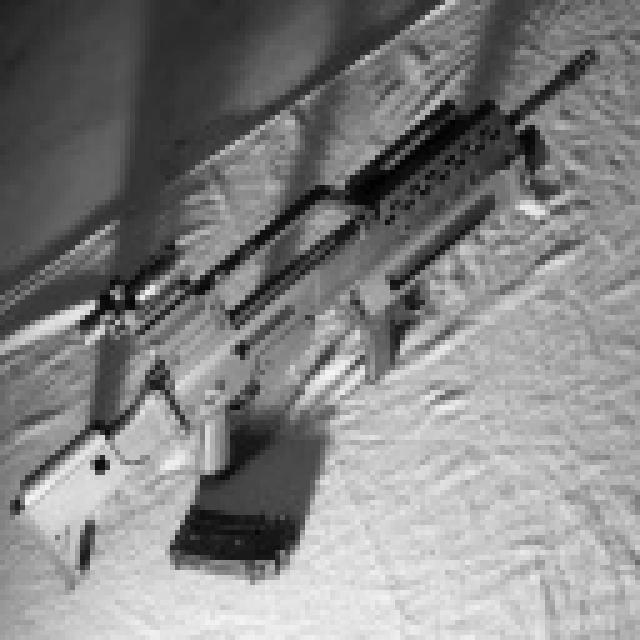Rifle: (12, 46, 640, 592)
